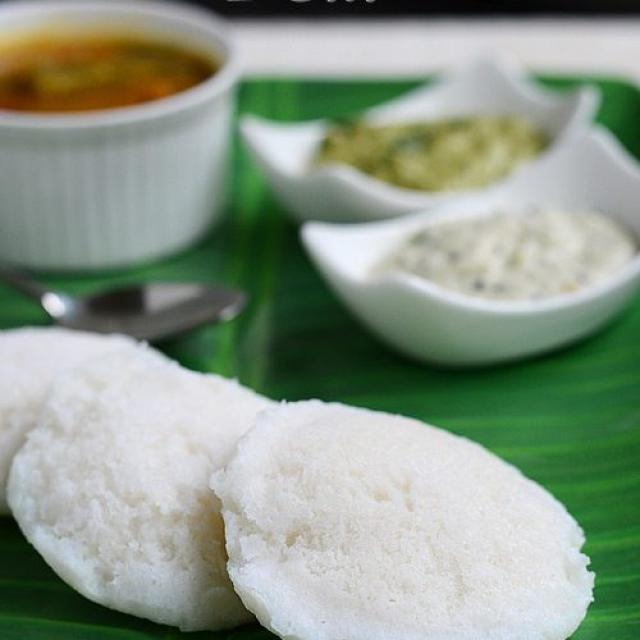chutney: (376, 205, 625, 287)
idli: (230, 394, 592, 639), (6, 368, 315, 628), (0, 326, 202, 521)
